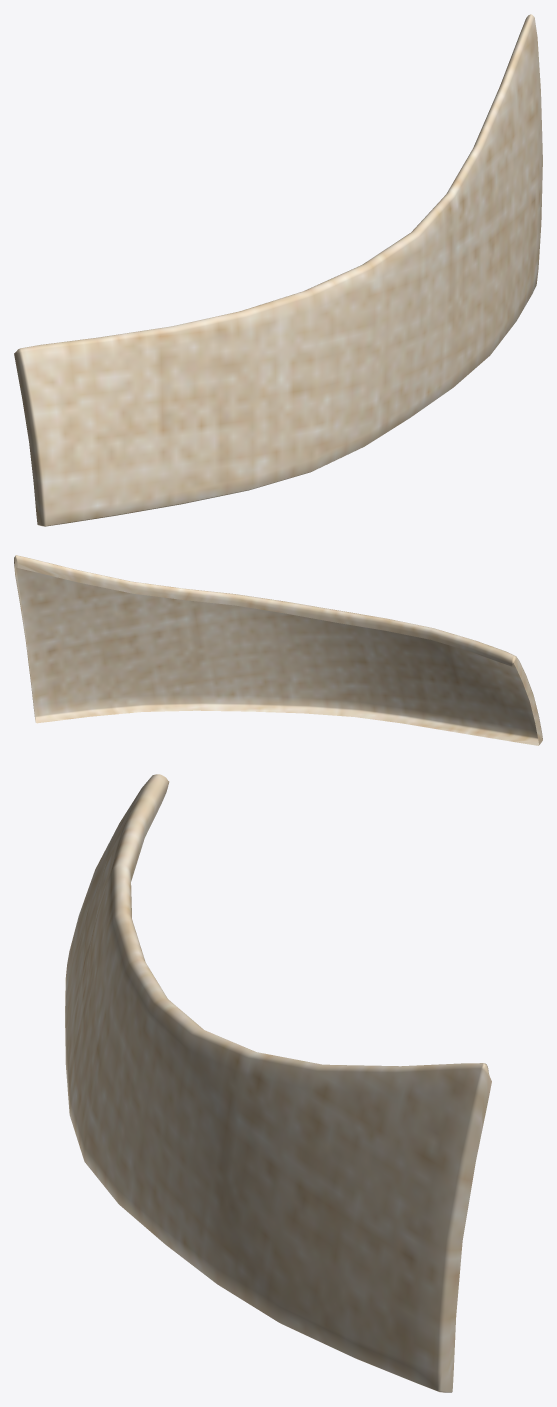
Rendered from upper_halfmoon_pocket.glb.
3 renders of one model, top to bottom at view 1: azimuth 30°, elevation 25°; view 2: azimuth 150°, elevation 25°; view 3: azimuth 270°, elevation 25°, orthographic. The views are drawn at different scales.
Visible parts, largest first — view 1: upper_halfmoon_pocket; view 2: upper_halfmoon_pocket; view 3: upper_halfmoon_pocket.
Part boxes in pixels (bbox=[...]): upper_halfmoon_pocket: bbox=[14, 14, 542, 526]; upper_halfmoon_pocket: bbox=[14, 555, 542, 745]; upper_halfmoon_pocket: bbox=[65, 774, 491, 1392].
Bounding box in the file's own units: 0.0127 × 0.0049 × 0.00551.
Materials: 1 (1 with a texture image).
